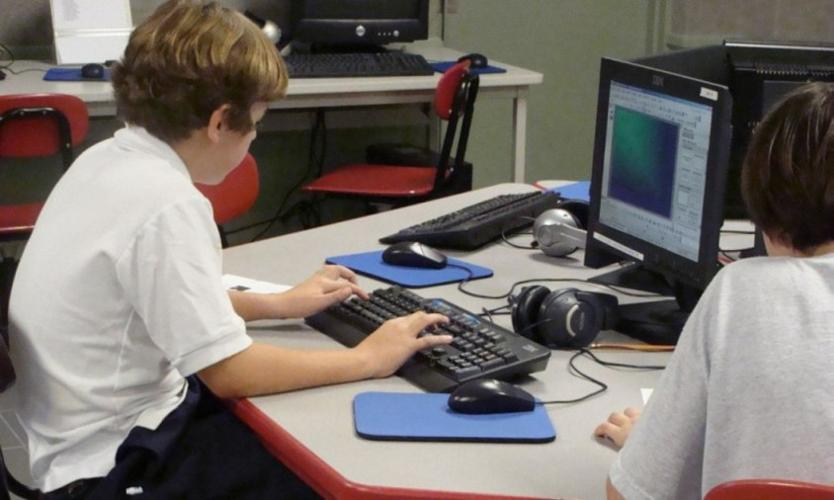person: (1, 3, 457, 500)
